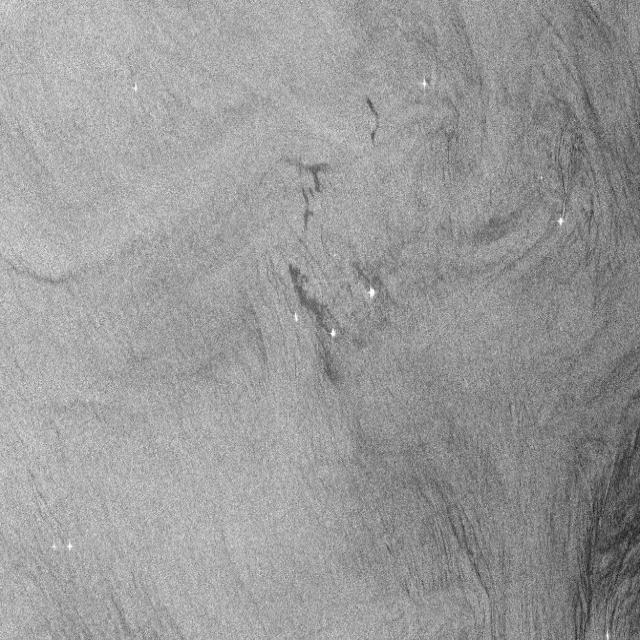oil-spill: (286, 266, 344, 396), (544, 124, 592, 210), (283, 150, 327, 237), (356, 253, 390, 319), (362, 92, 386, 148)
ship: (326, 324, 342, 346), (419, 68, 431, 96), (288, 309, 303, 330), (128, 74, 140, 100), (364, 284, 378, 304), (556, 209, 568, 232), (64, 535, 76, 555), (50, 535, 59, 559)
